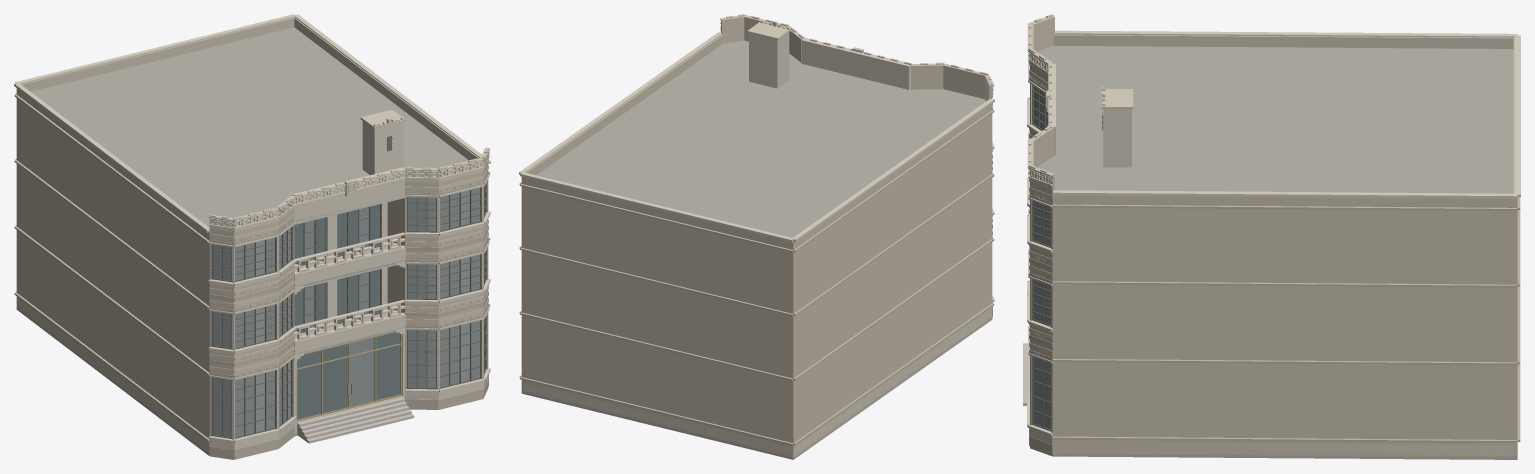
The model's file is jingan-pei-mansion-garden-front-raw.glb.
The picture shows the model from 3 angles, left to right: view 1: azimuth 30°, elevation 25°; view 2: azimuth 150°, elevation 25°; view 3: azimuth 270°, elevation 25°; orthographic projection. The views are drawn at different scales.
Parts seen in each view (by area): view 1: 贝宅花园侧主楼; view 2: 贝宅花园侧主楼; view 3: 贝宅花园侧主楼.
Part boxes in pixels (x1,y1,x2,y2): 贝宅花园侧主楼: (14,14,490,459); 贝宅花园侧主楼: (519,14,994,459); 贝宅花园侧主楼: (1023,14,1520,459).
Bounding box in the file's own units: 19.42 × 17.46 × 24.7.
